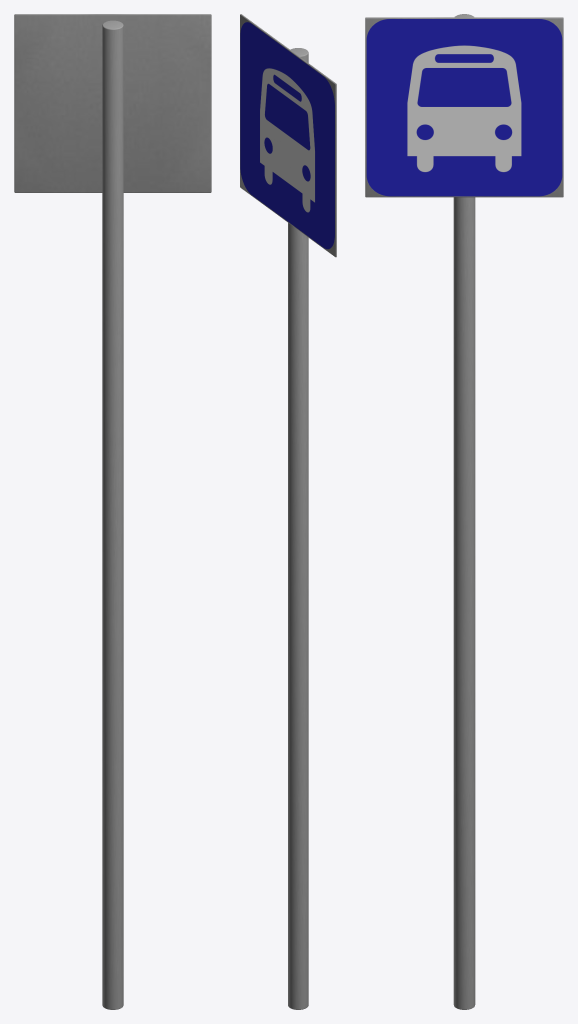
File: BusStopSign.glb
The picture shows the model from 3 angles, left to right: view 1: azimuth 90°, elevation 25°; view 2: azimuth 210°, elevation 25°; view 3: azimuth 270°, elevation 25°; orthographic projection. The views are drawn at different scales.
Visible parts, largest first — view 1: BusSign; view 2: BusSign; view 3: BusSign.
Boxes of the visible parts, bbox=[...] form: BusSign: bbox=[14, 14, 211, 1009]; BusSign: bbox=[240, 14, 336, 1009]; BusSign: bbox=[365, 14, 563, 1009].
Bounding box in the file's own units: 0.2376 × 11.04 × 2.
2 materials, 2 textured.
